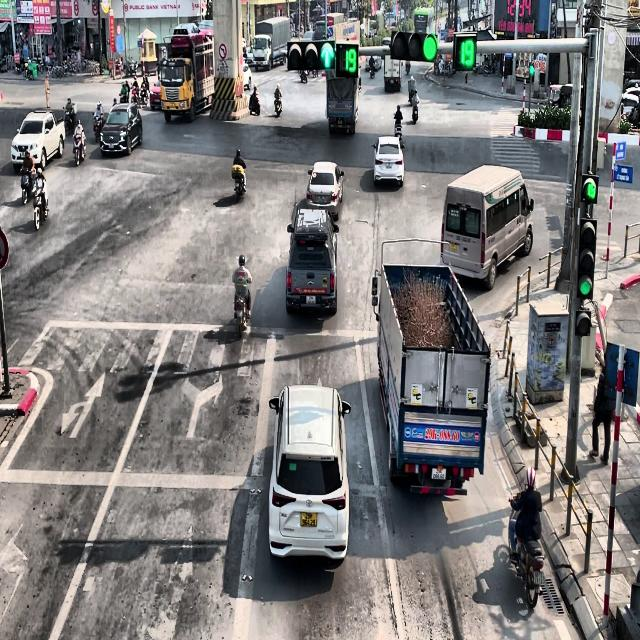lisence_plate: (300, 510, 318, 528), (431, 466, 446, 481), (456, 233, 472, 244), (304, 294, 316, 304), (448, 242, 457, 252), (385, 161, 392, 169), (318, 195, 325, 202), (337, 119, 343, 126), (390, 78, 394, 85)
